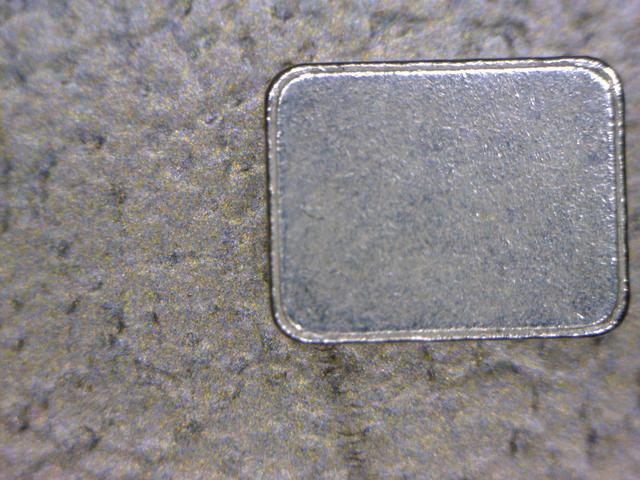nok: (257, 52, 635, 350)
